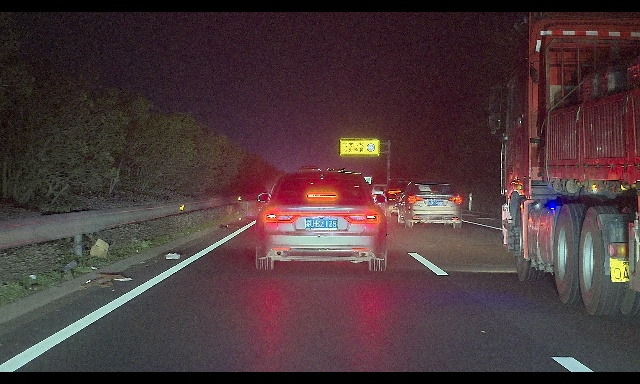car: (255, 171, 388, 272), (395, 180, 462, 228), (379, 179, 425, 218), (365, 184, 396, 210)
truck: (487, 12, 640, 318), (298, 166, 324, 197)
